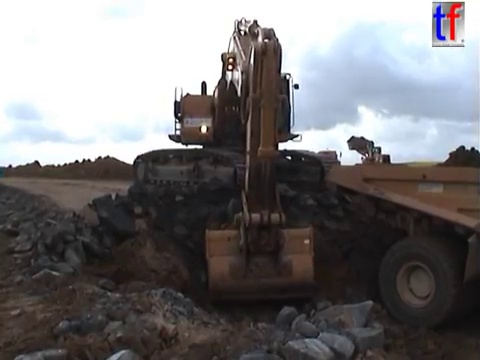excavator: (130, 14, 344, 308)
truck: (322, 161, 480, 330)
wheel loader: (345, 134, 396, 174)
